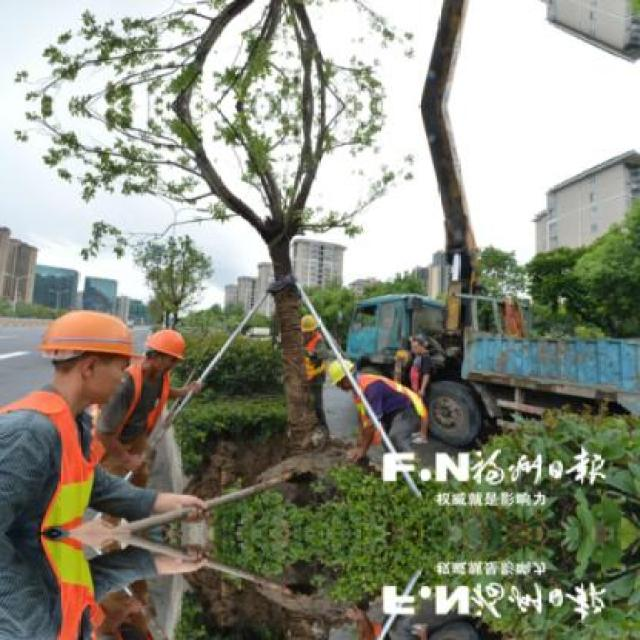helmet: (37, 309, 145, 402), (143, 326, 186, 376), (324, 355, 362, 390), (297, 312, 318, 338)
